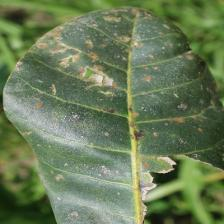red rust: (2, 6, 224, 224)
